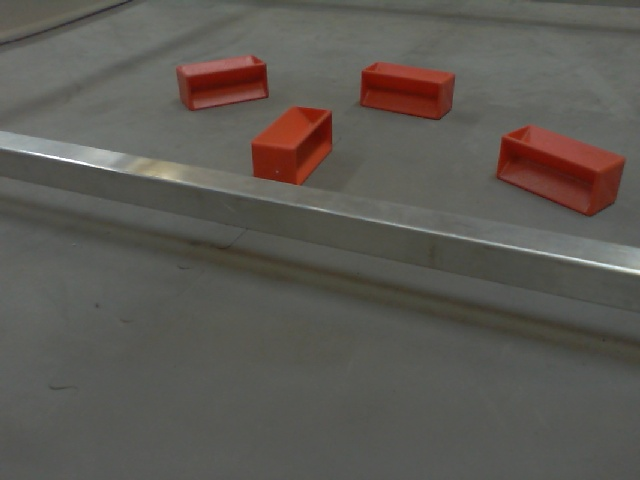RedSample: (492, 124, 625, 218), (352, 61, 461, 127), (247, 105, 332, 188), (171, 53, 269, 112)
